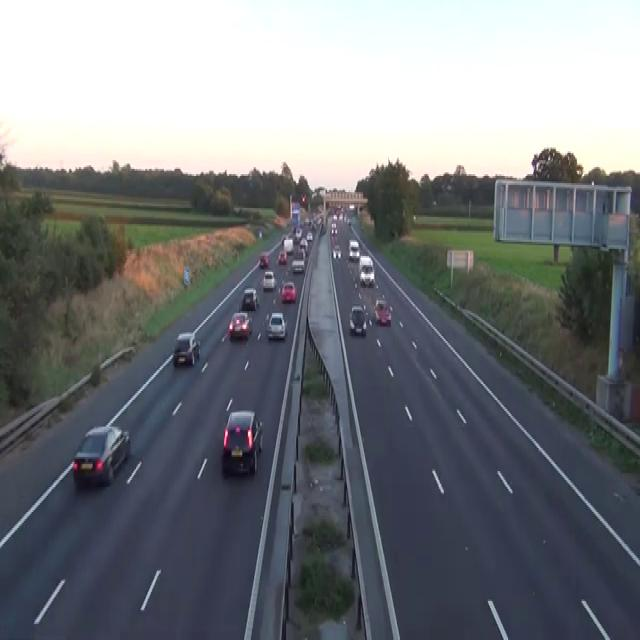Car: (72, 425, 130, 485), (222, 409, 263, 475), (172, 331, 200, 366), (228, 311, 252, 340), (266, 311, 286, 340), (349, 304, 366, 336), (358, 254, 374, 286), (373, 297, 391, 325), (241, 286, 259, 311), (280, 281, 296, 302), (291, 249, 305, 272), (262, 270, 276, 290), (348, 238, 359, 260), (358, 254, 373, 270), (283, 237, 293, 254), (259, 250, 269, 266), (277, 249, 287, 265), (441, 181, 455, 192), (332, 243, 341, 260), (299, 237, 308, 254), (293, 224, 302, 240), (281, 233, 292, 245), (330, 220, 337, 237), (319, 222, 326, 235), (306, 231, 313, 242), (258, 228, 262, 238), (349, 202, 354, 210), (301, 194, 306, 202), (347, 218, 350, 226)
Truck: (291, 201, 300, 224)
